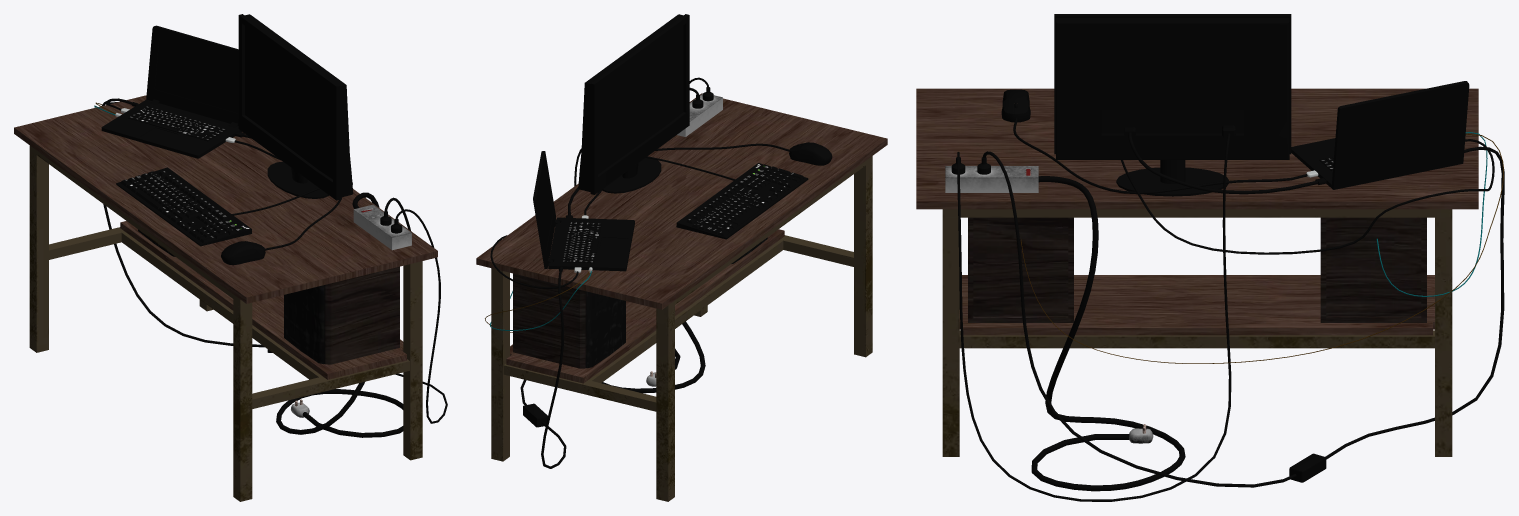
File: desktop.glb
3 renders of one model, left to right at view 1: azimuth 30°, elevation 25°; view 2: azimuth 150°, elevation 25°; view 3: azimuth 270°, elevation 25°, orthographic. The views are drawn at different scales.
Parts seen in each view (by area): view 1: p_tablaMadera, p_Monitor, p_Cuerpo, pCube286, p_Parlante, polySurface2, p_Estante, pCylinder13, p_Teclado, p_Enchufe, pCylinder1, pCylinder12 (+2 smaller); view 2: p_tablaMadera, p_Monitor, p_Cuerpo, p_Parlante, pCube286, polySurface2, p_Estante, p_Teclado, pCylinder1, pCylinder12, p_Enchufe, pCube326 (+2 smaller); view 3: p_Monitor, p_tablaMadera, p_Parlante, p_Estante, p_Cuerpo, pCube286, polySurface2, pCylinder13, pCylinder12, pCylinder8, pCylinder1, p_Enchufe (+6 smaller).
Boxes of the visible parts, x1=… form: p_tablaMadera: x1=14, y1=95, x2=437, y2=303; p_Monitor: x1=238, y1=14, x2=353, y2=200; p_Cuerpo: x1=29, y1=145, x2=422, y2=501; pCube286: x1=101, y1=25, x2=241, y2=158; p_Parlante: x1=138, y1=229, x2=399, y2=364; polySurface2: x1=49, y1=227, x2=409, y2=408; p_Estante: x1=120, y1=221, x2=406, y2=379; pCylinder13: x1=276, y1=192, x2=403, y2=437; p_Teclado: x1=116, y1=167, x2=251, y2=246; p_Enchufe: x1=353, y1=204, x2=411, y2=250; pCylinder1: x1=267, y1=161, x2=329, y2=198; pCylinder12: x1=102, y1=98, x2=410, y2=347; p_tablaMadera: x1=476, y1=93, x2=887, y2=309; p_Monitor: x1=578, y1=14, x2=689, y2=194; p_Cuerpo: x1=491, y1=156, x2=872, y2=501; p_Parlante: x1=513, y1=237, x2=767, y2=368; pCube286: x1=533, y1=151, x2=634, y2=271; polySurface2: x1=503, y1=235, x2=853, y2=411; p_Estante: x1=506, y1=229, x2=784, y2=383; p_Teclado: x1=676, y1=163, x2=808, y2=239; pCylinder1: x1=602, y1=158, x2=661, y2=193; pCylinder12: x1=520, y1=87, x2=698, y2=468; p_Enchufe: x1=677, y1=93, x2=722, y2=136; pCube326: x1=789, y1=142, x2=832, y2=165; p_Monitor: x1=1054, y1=14, x2=1291, y2=159; p_tablaMadera: x1=916, y1=88, x2=1478, y2=209; p_Parlante: x1=968, y1=217, x2=1426, y2=322; p_Estante: x1=959, y1=275, x2=1434, y2=335; p_Cuerpo: x1=942, y1=209, x2=1452, y2=456; pCube286: x1=1291, y1=81, x2=1469, y2=189; polySurface2: x1=959, y1=330, x2=1434, y2=348; pCylinder13: x1=1031, y1=176, x2=1185, y2=491; pCylinder12: x1=982, y1=146, x2=1504, y2=487; pCylinder8: x1=957, y1=133, x2=1231, y2=501; pCylinder1: x1=1116, y1=160, x2=1228, y2=196; p_Enchufe: x1=945, y1=166, x2=1038, y2=192.
Size of the model in its own units: 87.45 by 111 by 139.
Materials: 4 (4 with a texture image).
